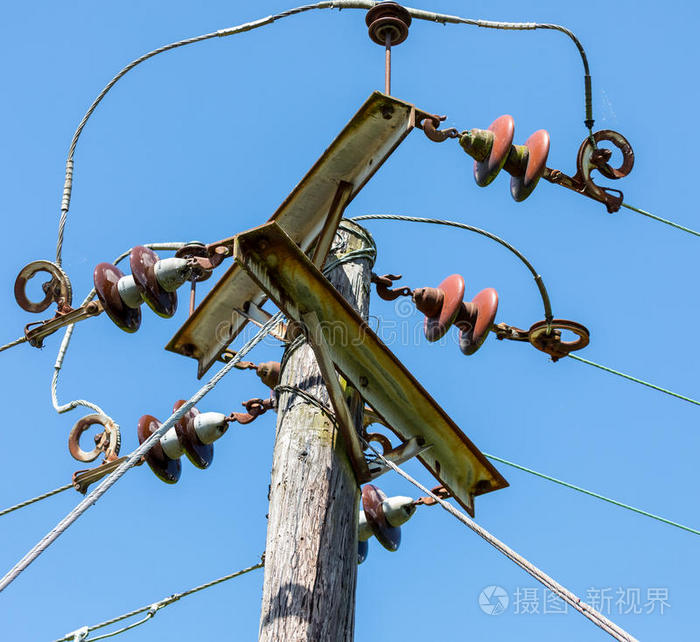insulator: (92, 244, 172, 332), (132, 402, 214, 484), (471, 113, 549, 199), (418, 274, 496, 357), (362, 479, 407, 560)
